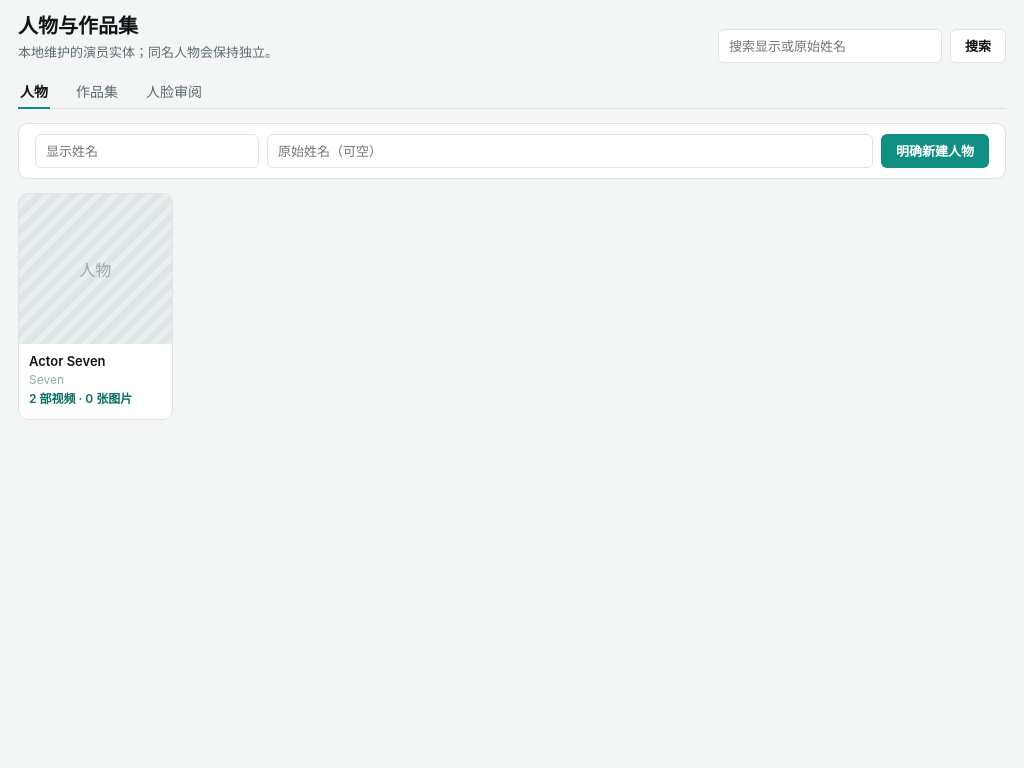
Test case: EntityLibraryPage › loads people and opens the selected entity drawer
This screenshot has width=1024, height=768.
Click the button with class "entity-card" at (95, 306), box [18,192,173,420]
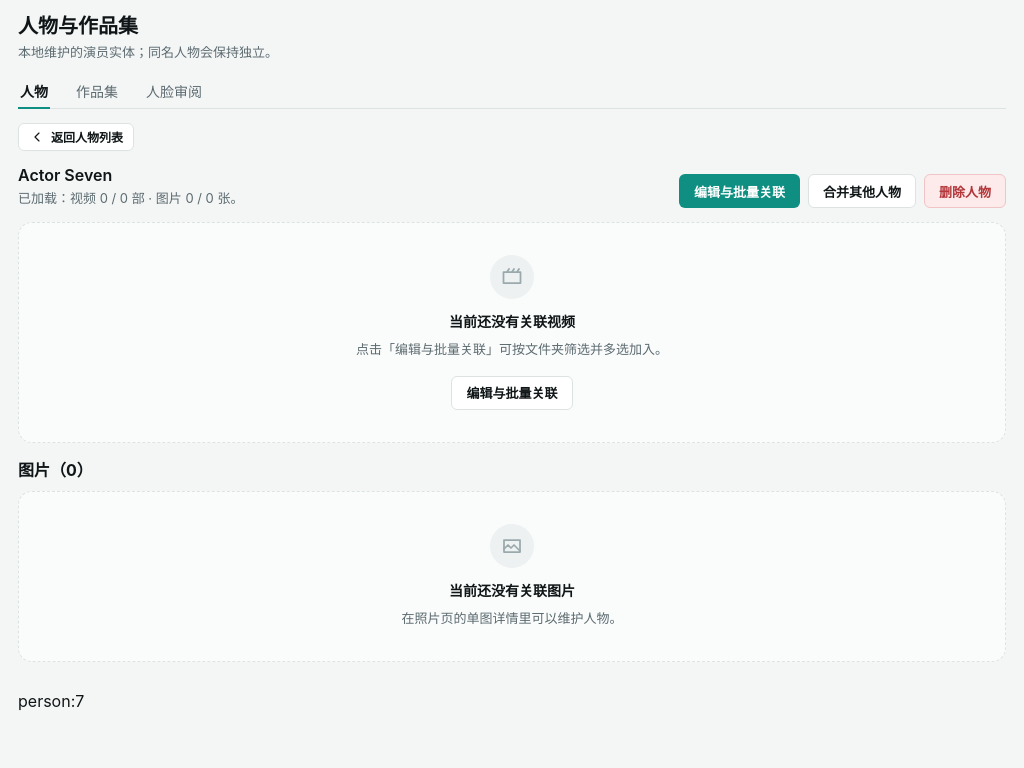
Now the text "person:7" is shown, box [18,691,84,711]
